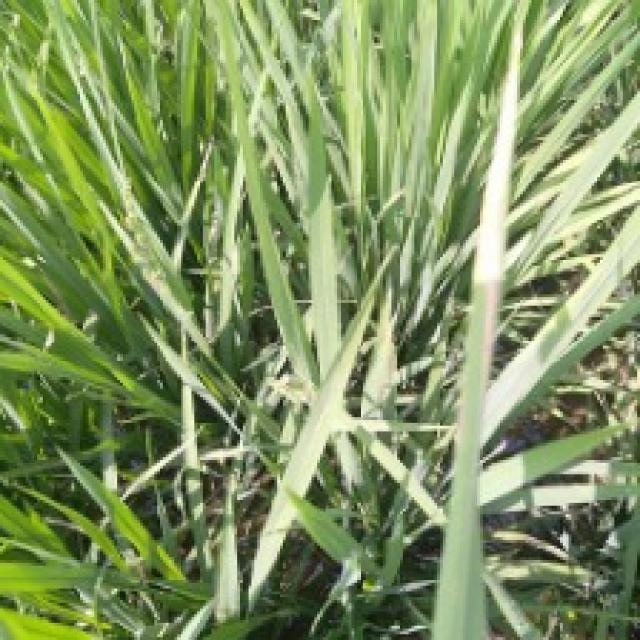Rice___Bacterial_Leaf_Blight: (429, 0, 525, 637)
